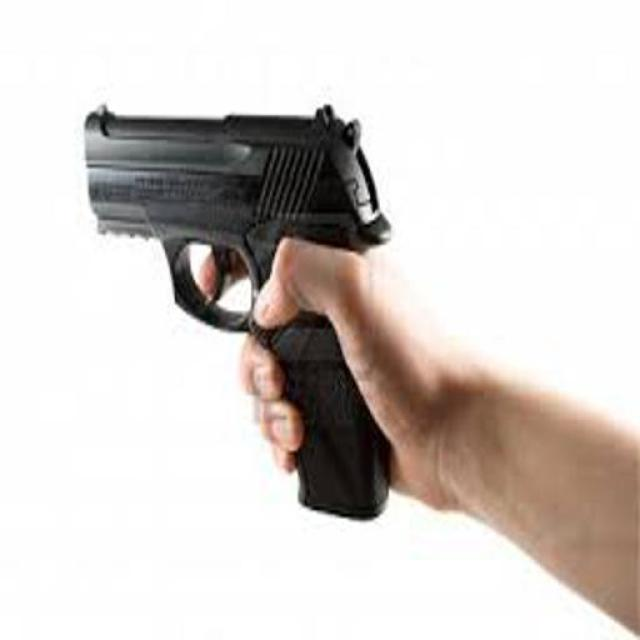pistol: (74, 97, 398, 520)
